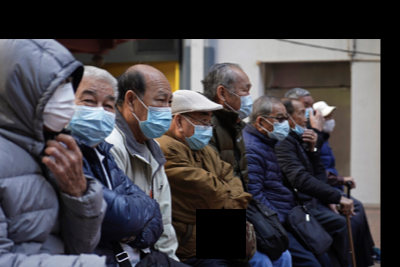mask_weared_incorrect: (292, 108, 308, 137)
with_mask: (70, 88, 116, 149), (41, 78, 76, 134), (137, 89, 173, 142), (185, 112, 213, 152), (231, 81, 254, 121), (265, 110, 291, 143), (302, 100, 315, 125), (322, 114, 337, 134)
